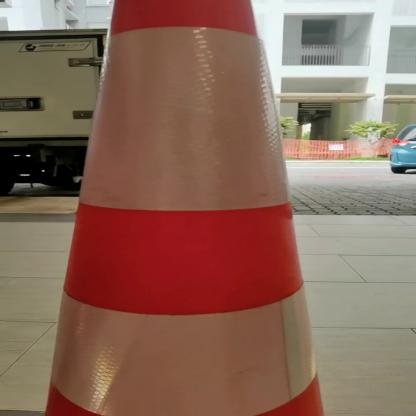cone: (14, 0, 370, 416)
